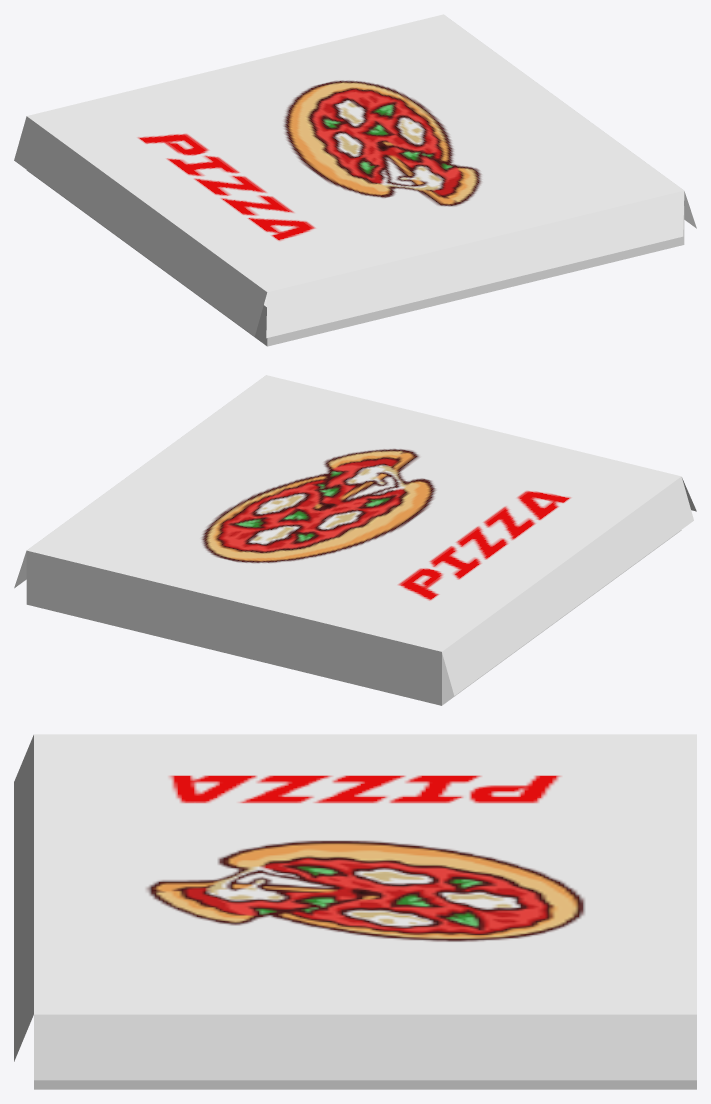
Rendered from s4_pizzaBox.fbx.
3 views of the same model, one above another, from view 1: azimuth 30°, elevation 25°; view 2: azimuth 150°, elevation 25°; view 3: azimuth 270°, elevation 25° (orthographic). The views are drawn at different scales.
Parts seen in each view (by area): view 1: Plane.004; view 2: Plane.004; view 3: Plane.004.
Part boxes in pixels (x1,y1,x2,y2): Plane.004: [14, 14, 696, 346]; Plane.004: [14, 375, 696, 705]; Plane.004: [14, 734, 696, 1089].
Bounding box in the file's own units: 212 × 24.88 × 206.
